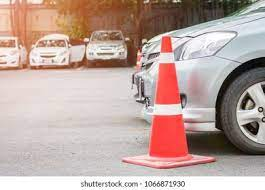car: (143, 1, 265, 153), (85, 28, 127, 66), (29, 35, 74, 69), (1, 36, 28, 69)
cone: (126, 35, 207, 169)
